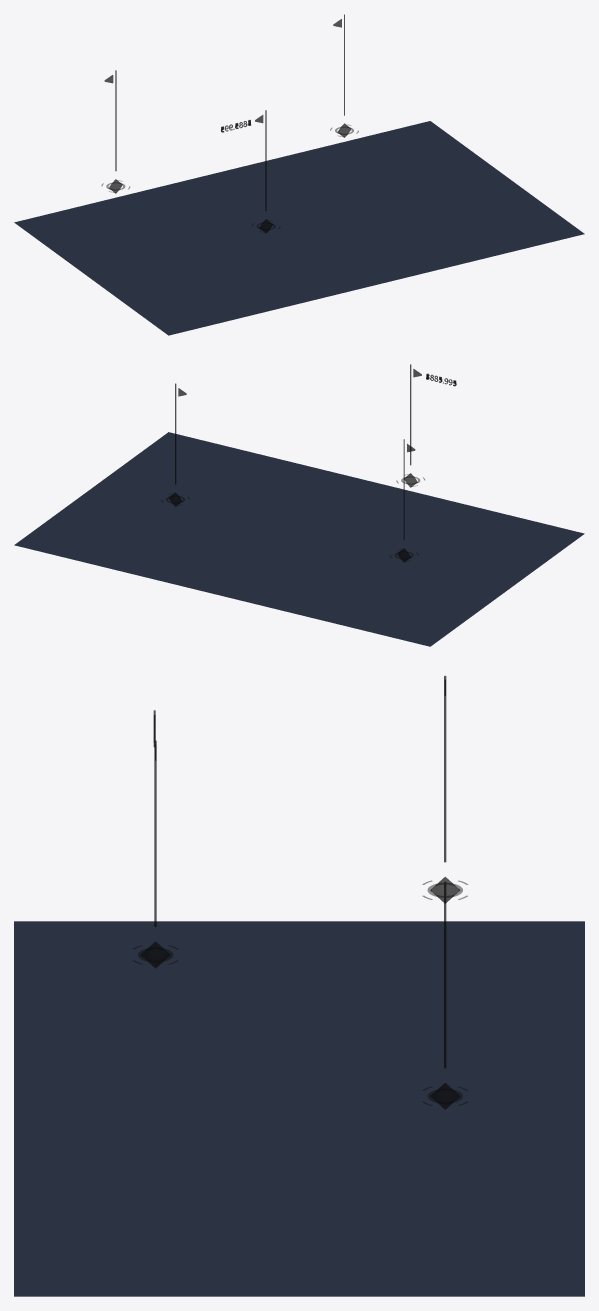
3 renders of one model, top to bottom at view 1: azimuth 30°, elevation 25°; view 2: azimuth 150°, elevation 25°; view 3: azimuth 270°, elevation 25°, orthographic. The views are drawn at different scales.
Visible parts, largest first — view 1: 平面; view 2: 平面; view 3: 平面.
Part boxes in pixels (left/top/right/bottom): 平面: left=14, top=121, right=584, bottom=335; 平面: left=14, top=432, right=584, bottom=646; 平面: left=14, top=921, right=584, bottom=1296.
Size of what is drawn, in the model's own units: 13180 by 4964 by 8477.
